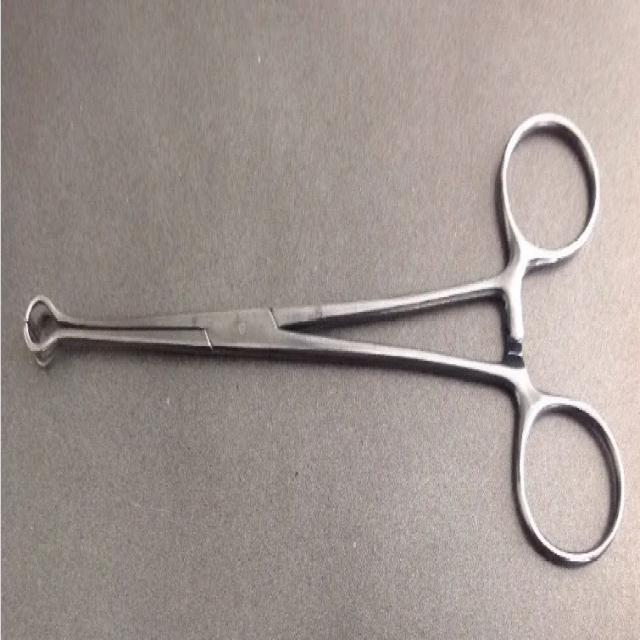Babcock Forceps: (22, 109, 626, 574)
